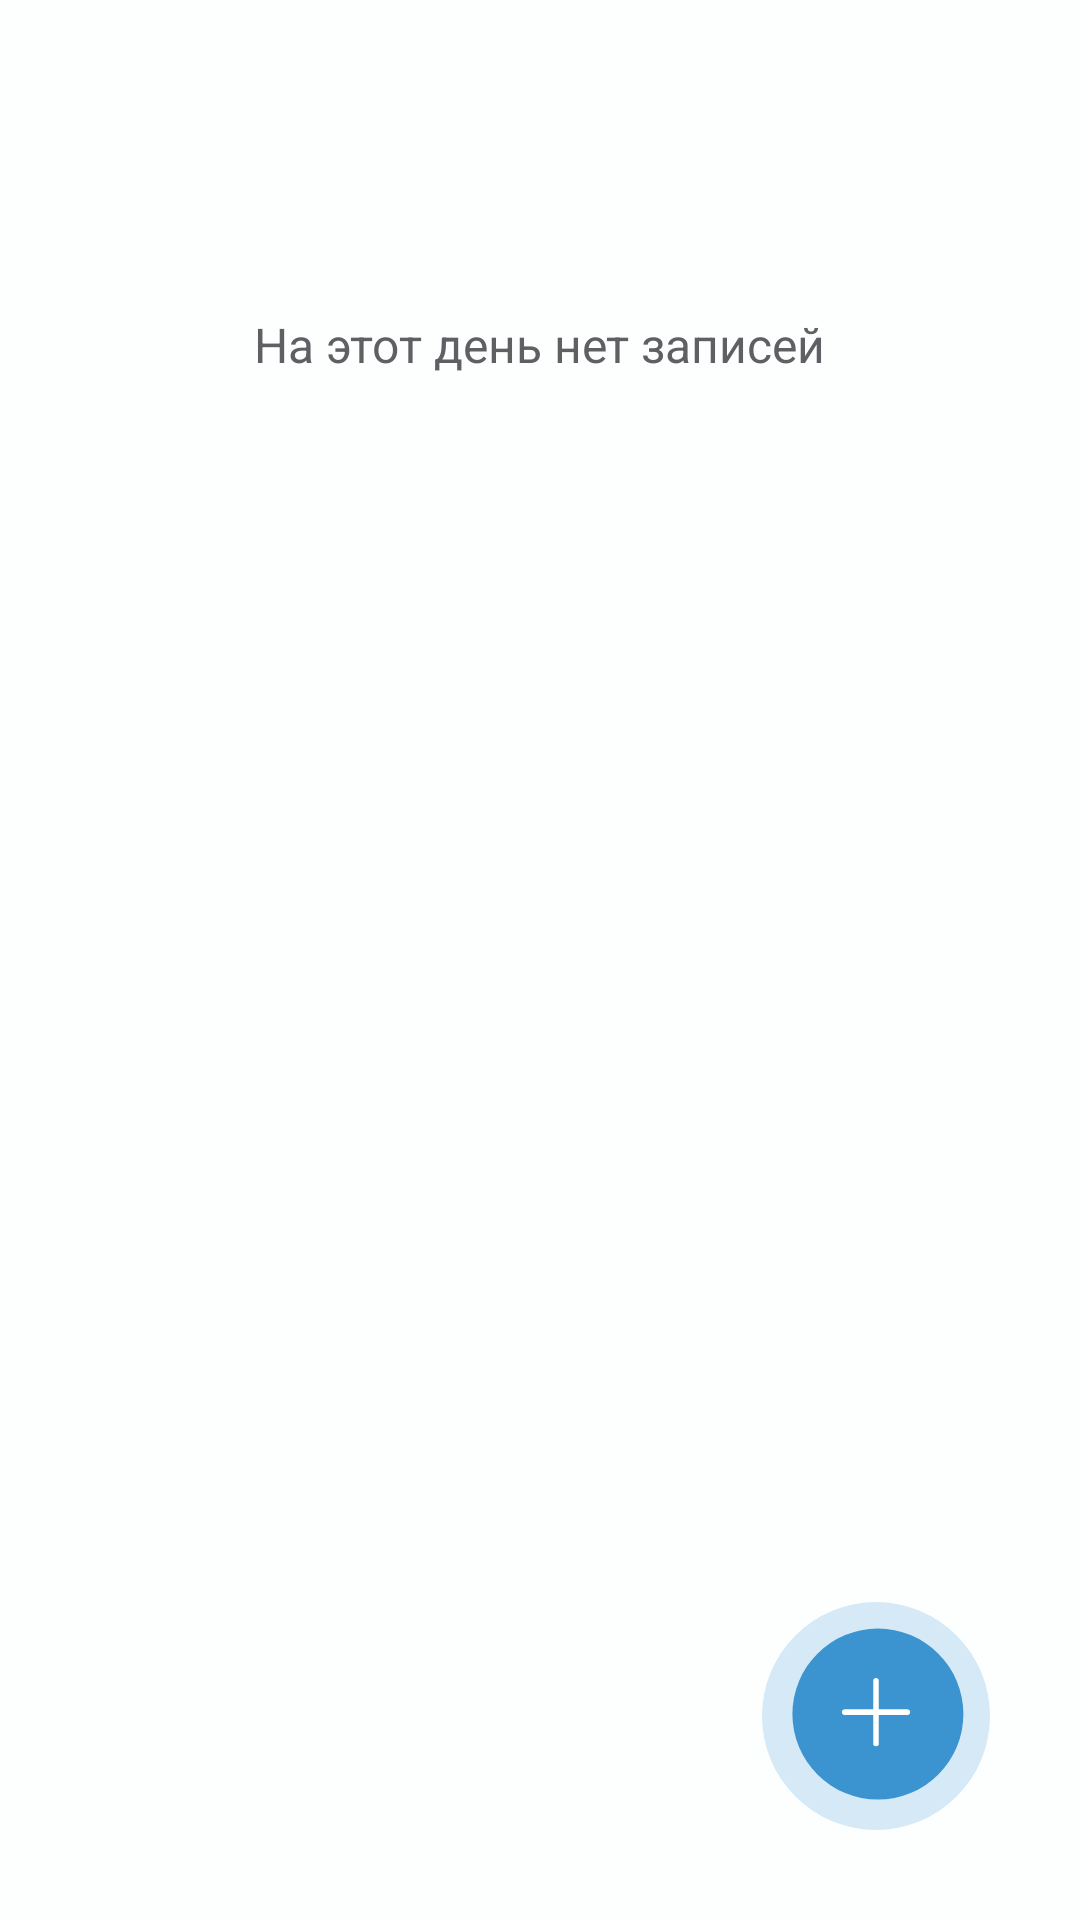

Where to tap for icons on this 1080px×1920px app screen, as point (x, y):
Добавить план на день: point (876, 1716)
